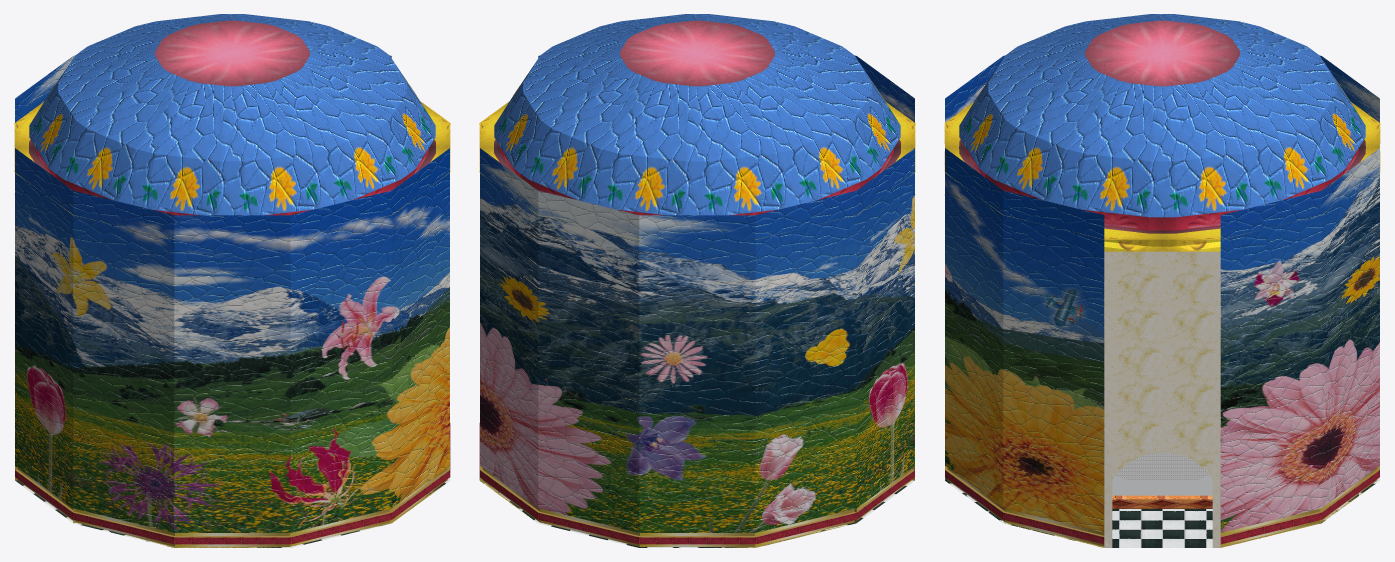
File: #1 Huge Texture - DOME.obj
The picture shows the model from 3 angles, left to right: view 1: azimuth 30°, elevation 25°; view 2: azimuth 150°, elevation 25°; view 3: azimuth 270°, elevation 25°; orthographic projection.
Parts seen in each view (by area): view 1: Mesh_0011; view 2: Mesh_0011; view 3: Mesh_0011.
Part boxes in pixels (box(x1,y1,x2,y2)): Mesh_0011: box(14, 14, 450, 547); Mesh_0011: box(479, 14, 915, 547); Mesh_0011: box(944, 14, 1380, 547).
Bounding box in the file's own units: 13.94 × 14.2 × 13.94.
Materials: 12 (12 with a texture image).
